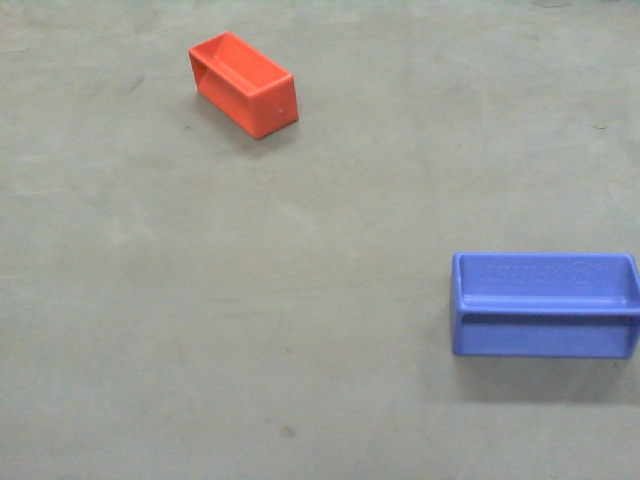BlueSample: (449, 248, 640, 361)
RedSample: (185, 26, 301, 144)
